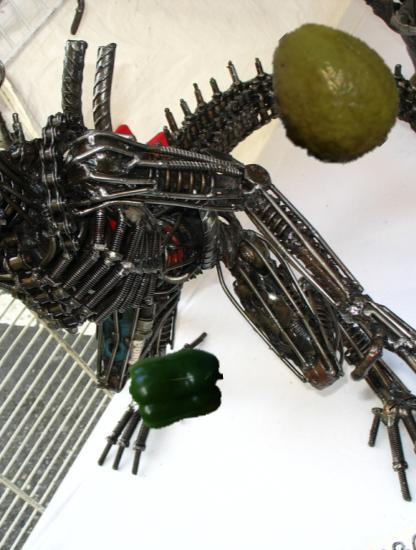Guava: (256, 20, 403, 167)
Pepper: (129, 341, 224, 436)
